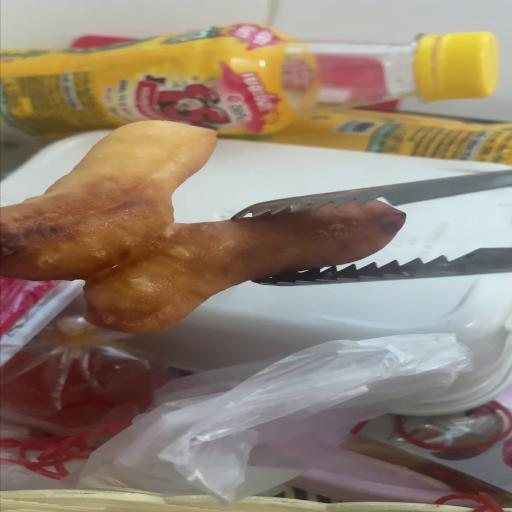street_burnt_good: (0, 121, 404, 332)
